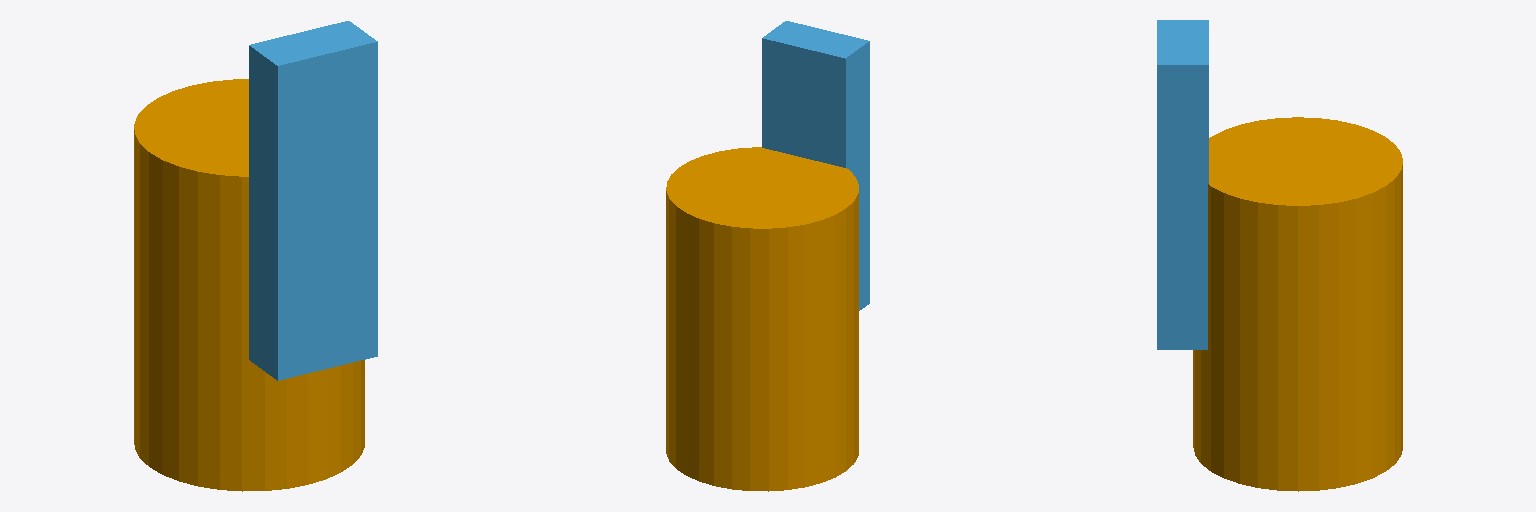
robot.urdf — origins:
<?xml version="1.0"?>
<robot name="origins">
  <link name="base_link">
    <visual>
      <geometry>
        <cylinder length="0.6" radius="0.2"/>
      </geometry>
    </visual>
  </link>

  <link name="right_leg">
    <visual>
      <geometry>
        <box size="0.6 0.1 0.2"/>
      </geometry>
      <origin rpy="0 1.57075 0" xyz="0 0 0"/>
    </visual>
  </link>

  <joint name="base_to_right_leg" type="fixed">
    <parent link="base_link"/>
    <child link="right_leg"/>
    <origin xyz="0 -0.22 0.25"/>
  </joint>

</robot>

--- Render facts (derived) ---
The picture shows the robot from 3 angles, left to right: view 1: azimuth 30°, elevation 25°; view 2: azimuth 150°, elevation 25°; view 3: azimuth 270°, elevation 25°; orthographic projection.
Robot: origins — 2 links, 1 joints (1 fixed); root link base_link; default pose: every joint at zero.
Visible links, largest first — view 1: base_link, right_leg; view 2: base_link, right_leg; view 3: base_link, right_leg.
Link boxes in pixels (bbox=[...]): base_link: bbox=[134, 79, 364, 491]; right_leg: bbox=[249, 21, 377, 380]; base_link: bbox=[666, 147, 858, 491]; right_leg: bbox=[762, 21, 869, 310]; base_link: bbox=[1193, 117, 1402, 491]; right_leg: bbox=[1157, 20, 1208, 349].
Bounding box of the posed robot: 0.4 × 0.47 × 0.85 m (x, y, z).
Geometry: primitives only (box / cylinder / sphere), no mesh files.